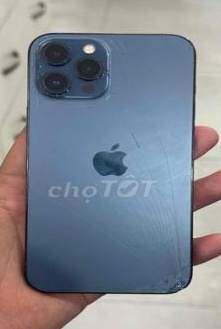physical_damage: (29, 114, 199, 312), (31, 31, 131, 114)
